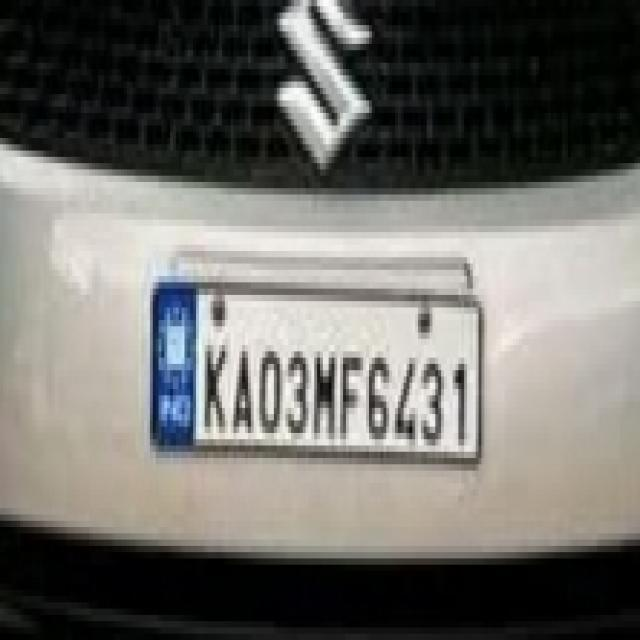0: (256, 336, 282, 444)
1: (448, 354, 474, 454)
3: (284, 330, 311, 450), (420, 358, 442, 449)
4: (394, 352, 418, 450)
6: (366, 349, 392, 452)
A: (230, 336, 256, 444)
F: (340, 344, 362, 444)
K: (202, 334, 228, 442)
M: (310, 346, 338, 439)
